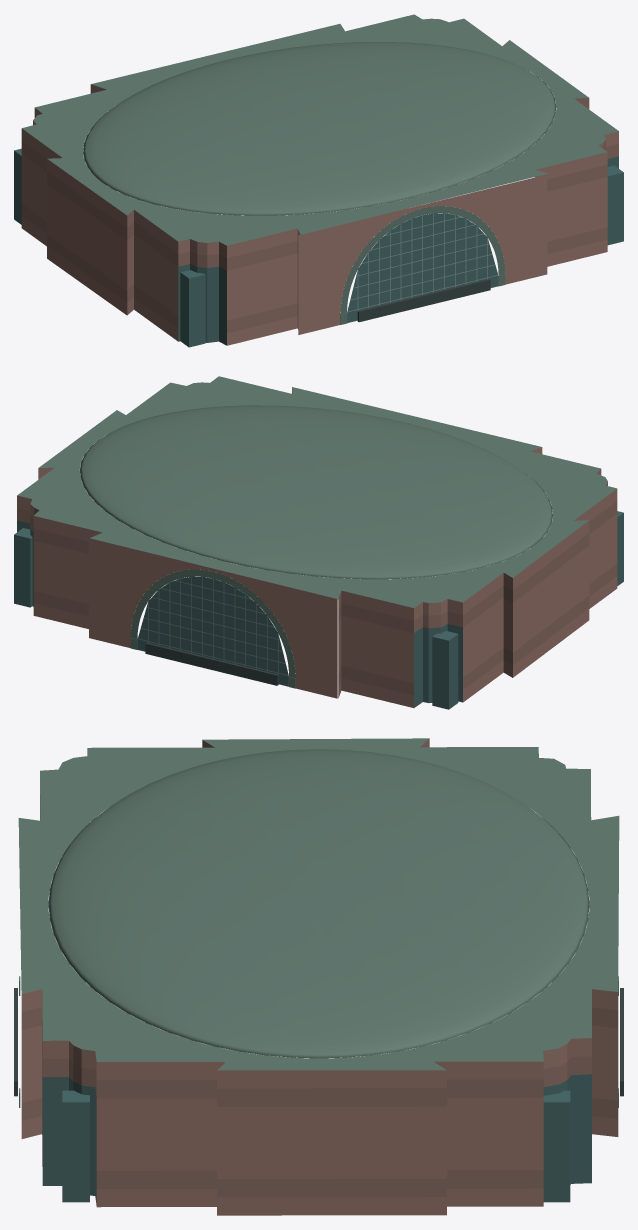
File: honda-center-near.glb
3 views of the same model, one above another, from view 1: azimuth 30°, elevation 25°; view 2: azimuth 150°, elevation 25°; view 3: azimuth 270°, elevation 25° (orthographic). The views are drawn at different scales.
Visible parts, largest first — view 1: honda-center-0-roof, honda-center-0-stone, honda-center-0-glass, honda-center-0-course, honda-center-0-metal, honda-center-0-dark; view 2: honda-center-0-roof, honda-center-0-stone, honda-center-0-glass, honda-center-0-course, honda-center-0-metal, honda-center-0-dark; view 3: honda-center-0-roof, honda-center-0-stone, honda-center-0-course, honda-center-0-glass, honda-center-0-dark.
Part boxes in pixels (x1,y1,x2,y2): honda-center-0-roof: [22, 14, 618, 324]; honda-center-0-stone: [21, 84, 618, 345]; honda-center-0-glass: [14, 148, 623, 347]; honda-center-0-course: [21, 113, 618, 333]; honda-center-0-metal: [347, 213, 498, 322]; honda-center-0-dark: [357, 279, 490, 322]; honda-center-0-roof: [17, 376, 616, 688]; honda-center-0-stone: [17, 389, 617, 707]; honda-center-0-glass: [14, 511, 623, 709]; honda-center-0-course: [17, 501, 617, 695]; honda-center-0-metal: [137, 577, 288, 686]; honda-center-0-dark: [145, 642, 278, 685]; honda-center-0-roof: [18, 738, 619, 1107]; honda-center-0-stone: [21, 738, 618, 1215]; honda-center-0-course: [21, 812, 618, 1197]; honda-center-0-glass: [42, 822, 591, 1205]; honda-center-0-dark: [14, 988, 623, 1096].
Size of the model in its own units: 142 by 33 by 110.
